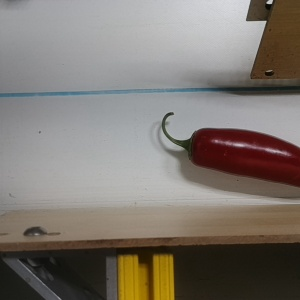Cut Point: (179, 127, 209, 168)
